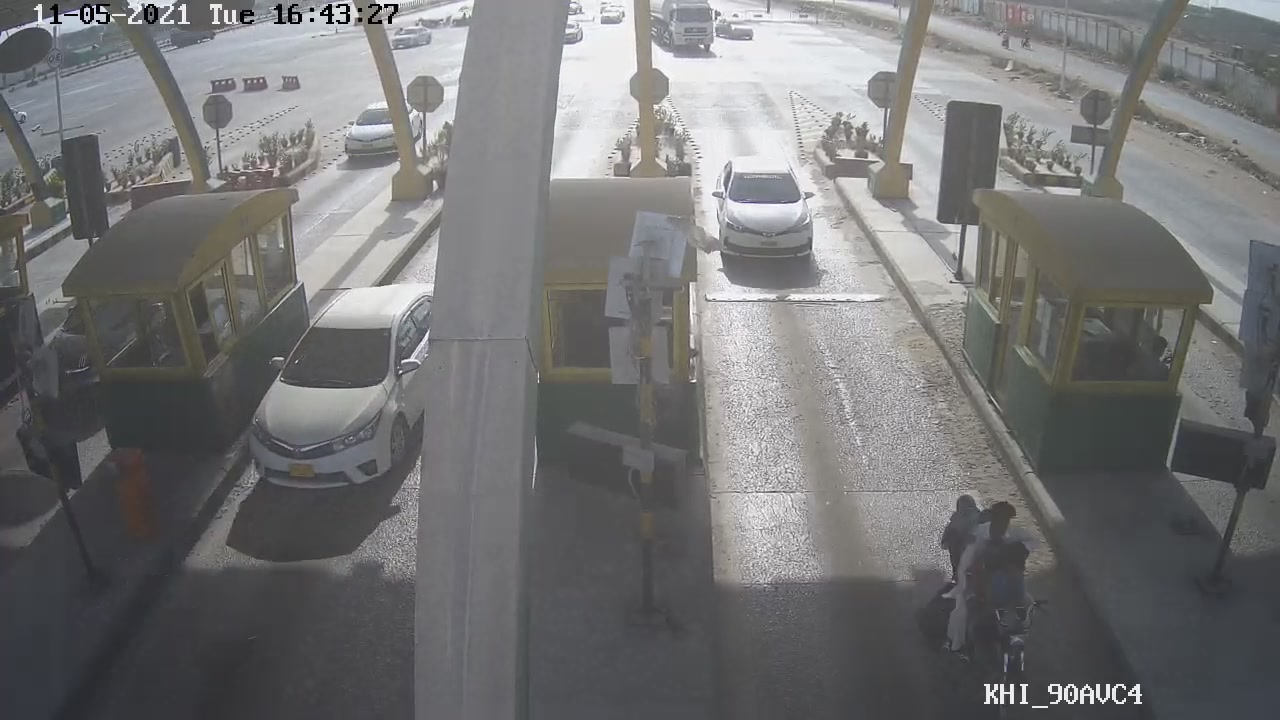F1: (710, 148, 819, 262)
